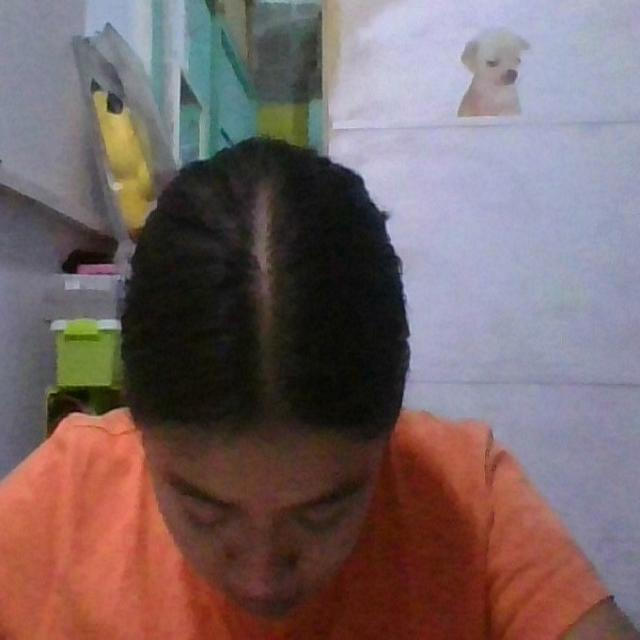9_cabeza_baja: (121, 134, 410, 617)
